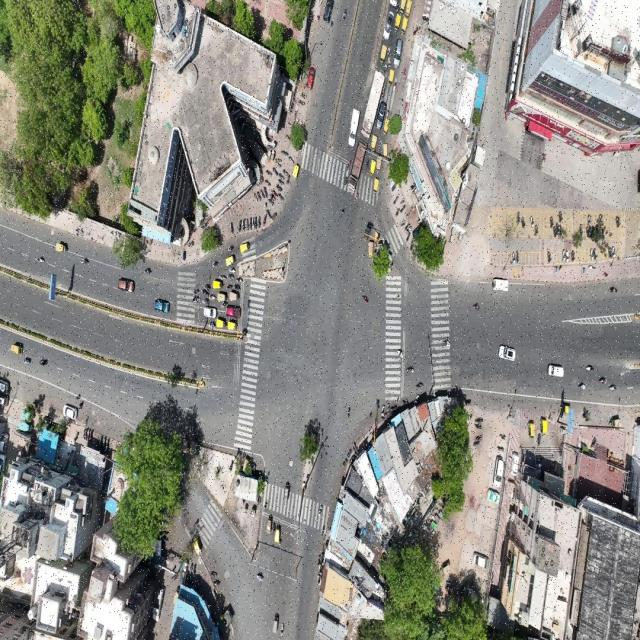3W: (8, 339, 23, 356), (282, 477, 291, 504), (239, 240, 252, 256), (54, 240, 67, 256), (272, 611, 280, 634), (292, 163, 301, 183), (194, 536, 203, 556), (266, 509, 272, 539), (541, 417, 549, 436), (276, 522, 282, 546), (227, 319, 238, 332), (528, 421, 535, 441), (401, 17, 408, 36), (368, 240, 375, 259), (395, 14, 401, 36), (372, 178, 379, 196), (376, 156, 383, 174), (224, 255, 236, 265), (229, 291, 239, 303), (380, 45, 386, 65), (371, 134, 377, 154), (384, 118, 390, 138), (406, 0, 413, 17), (216, 316, 225, 329), (212, 278, 221, 290), (364, 225, 371, 240), (383, 142, 389, 158), (370, 158, 375, 177), (217, 293, 226, 303), (389, 69, 394, 86)
Cars: (497, 339, 518, 364), (153, 292, 171, 315), (117, 275, 136, 295), (472, 548, 489, 570), (491, 276, 510, 295), (493, 456, 504, 488), (382, 9, 393, 41), (393, 38, 404, 69), (547, 363, 566, 380), (60, 405, 77, 422), (377, 101, 386, 130), (308, 64, 318, 90), (227, 305, 243, 318), (202, 305, 217, 318)
LCV: (344, 107, 360, 148)
M2W: (253, 570, 267, 585), (337, 205, 349, 220), (35, 253, 47, 267), (607, 285, 620, 297), (40, 354, 50, 369), (362, 295, 373, 308), (280, 617, 286, 639), (394, 347, 405, 359), (404, 363, 416, 374), (578, 380, 588, 392), (445, 338, 452, 355), (415, 378, 424, 391), (210, 256, 219, 268), (23, 354, 32, 366), (143, 268, 153, 278), (585, 364, 595, 374), (81, 255, 88, 269), (318, 499, 324, 515), (609, 382, 617, 394), (472, 301, 481, 311), (498, 432, 508, 441), (496, 444, 506, 453), (536, 432, 542, 447), (598, 374, 606, 385), (298, 99, 307, 108), (321, 523, 326, 539), (616, 214, 621, 230), (579, 222, 585, 235), (393, 80, 399, 93), (515, 248, 519, 267), (534, 222, 539, 237), (589, 249, 594, 264), (474, 422, 484, 429), (587, 213, 592, 227), (345, 158, 352, 168), (549, 213, 553, 230), (273, 519, 276, 541), (516, 207, 519, 229), (386, 106, 391, 119), (233, 282, 241, 290), (343, 6, 347, 22), (547, 249, 551, 265), (265, 167, 272, 176), (404, 224, 413, 231), (227, 244, 233, 254), (278, 193, 284, 203), (299, 92, 309, 98), (353, 193, 359, 203), (393, 194, 398, 206), (276, 184, 283, 192), (599, 211, 603, 225), (402, 66, 406, 80), (259, 189, 264, 200), (474, 417, 485, 422), (230, 267, 239, 273), (220, 304, 226, 313), (289, 156, 295, 165), (343, 174, 347, 187), (365, 158, 369, 171), (230, 218, 233, 235), (571, 248, 574, 265), (474, 434, 484, 439), (192, 288, 200, 294), (242, 218, 245, 234), (250, 216, 253, 232), (252, 192, 256, 204), (281, 150, 289, 156), (288, 121, 294, 129), (521, 212, 524, 228), (562, 250, 565, 266), (378, 138, 381, 154), (388, 57, 392, 69), (239, 219, 242, 234), (263, 212, 266, 227), (273, 168, 278, 177), (530, 215, 533, 230), (566, 249, 569, 264), (401, 204, 406, 213), (555, 222, 559, 233), (396, 2, 400, 13), (193, 297, 199, 304), (210, 294, 216, 301), (201, 290, 208, 296), (259, 216, 262, 230), (399, 197, 406, 203), (205, 282, 210, 290), (236, 277, 244, 282), (286, 134, 291, 142), (387, 45, 391, 55), (407, 232, 411, 242), (246, 218, 249, 231), (559, 209, 562, 222), (203, 299, 209, 305), (220, 273, 226, 279), (265, 179, 271, 185), (512, 250, 514, 268), (395, 208, 399, 217), (227, 274, 234, 279), (225, 283, 232, 288), (208, 320, 213, 327), (400, 220, 405, 227), (382, 88, 385, 99), (284, 168, 288, 176), (269, 197, 273, 205), (255, 217, 257, 231), (276, 162, 280, 169), (384, 62, 386, 74)
Truck: (361, 67, 386, 137), (348, 139, 371, 196)
